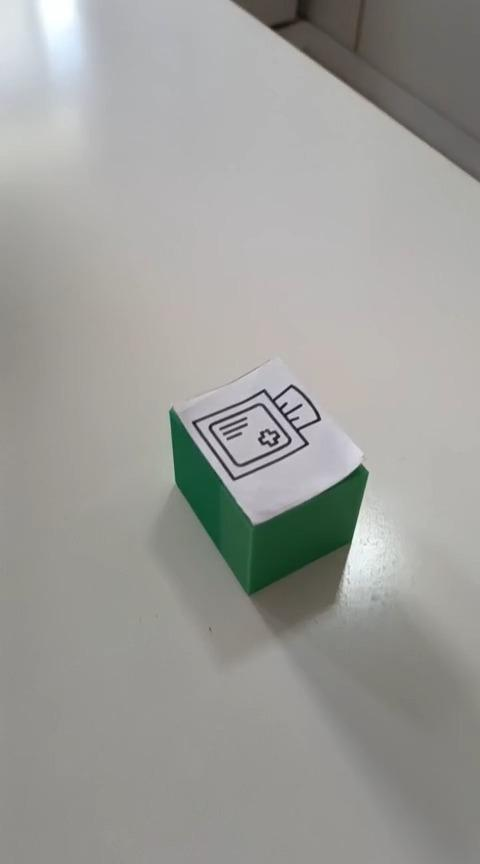Gauze: (167, 355, 369, 596)
